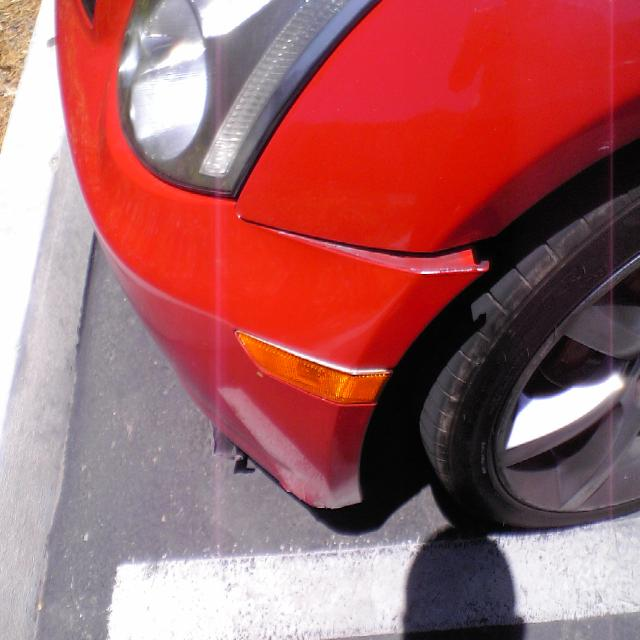misalignment: (151, 364, 359, 407)
